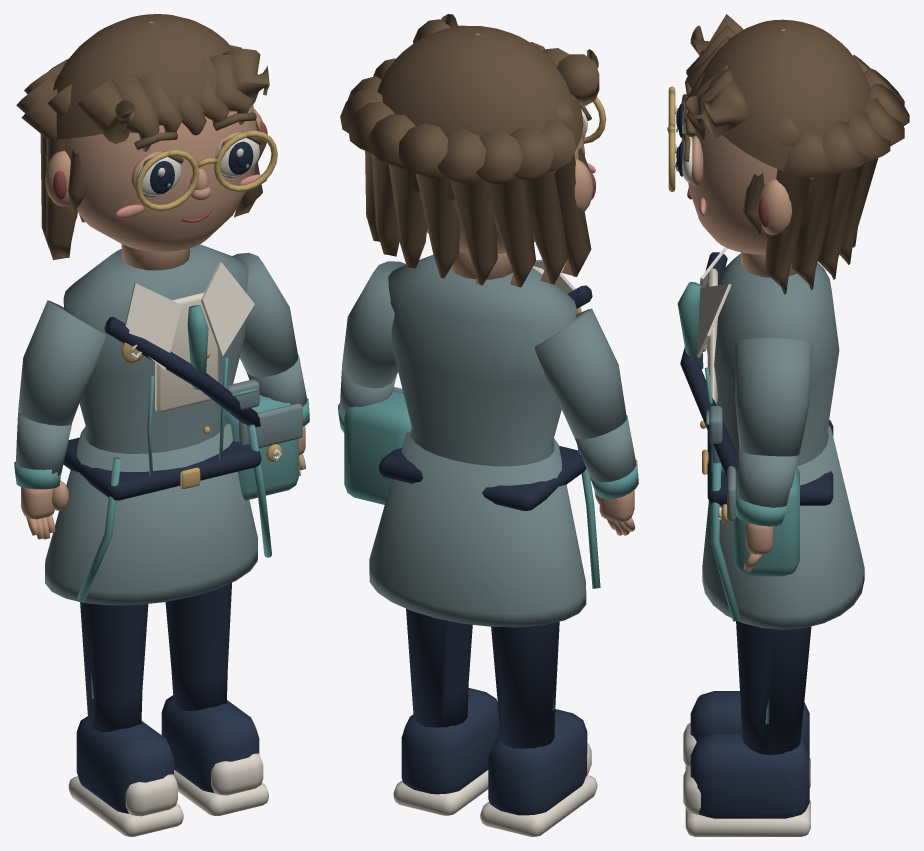
File: npc_hexruins_trainer_2.glb
The picture shows the model from 3 angles, left to right: view 1: azimuth 30°, elevation 25°; view 2: azimuth 150°, elevation 25°; view 3: azimuth 270°, elevation 25°; orthographic projection.
Visible parts, largest first — view 1: figure.061; view 2: figure.061; view 3: figure.061.
Boxes of the visible parts, bbox=[...] form: figure.061: bbox=[14, 14, 309, 836]; figure.061: bbox=[338, 14, 638, 836]; figure.061: bbox=[667, 14, 909, 836].
Size of the model in its own units: 0.6202 by 1.58 by 0.4483.
